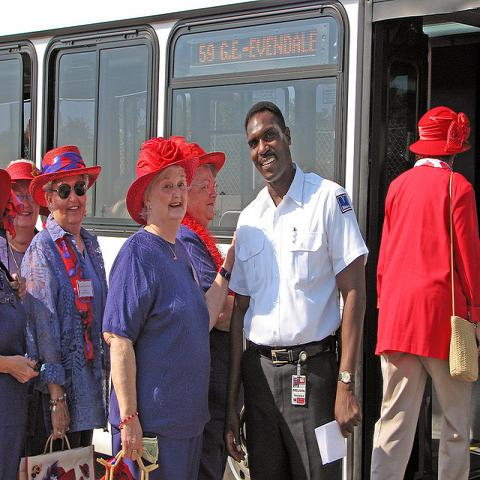bus: (4, 1, 478, 281)
